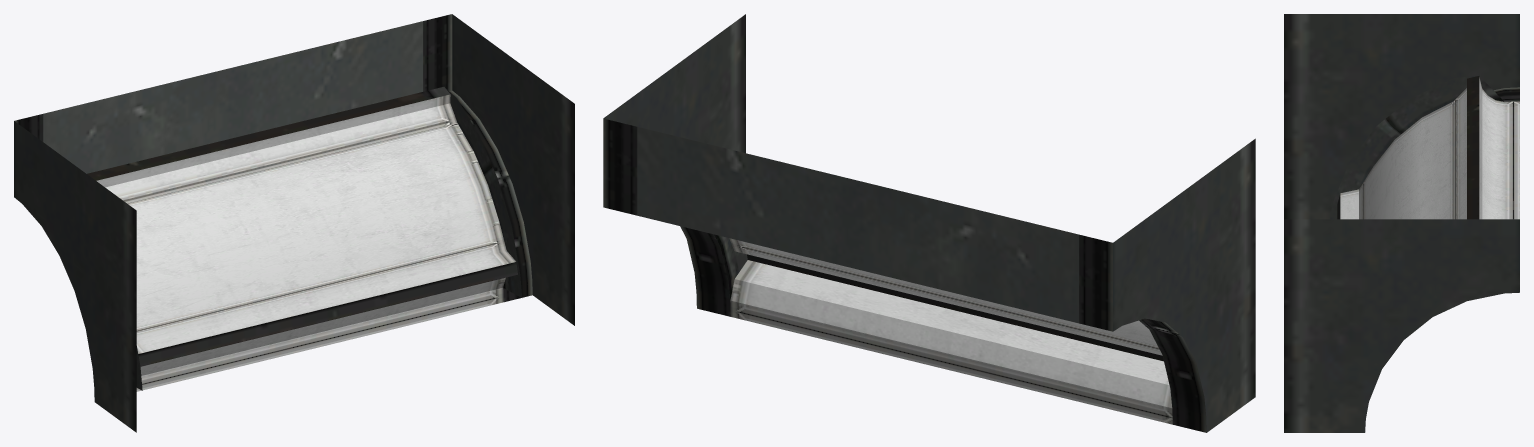
File: Neon_Wall_3x4_Top.FBX
3 views of the same model, side by side, from view 1: azimuth 30°, elevation 25°; view 2: azimuth 150°, elevation 25°; view 3: azimuth 270°, elevation 25° (orthographic). The views are drawn at different scales.
Parts seen in each view (by area): view 1: Neon_Wall_3x4_Top; view 2: Neon_Wall_3x4_Top; view 3: Neon_Wall_3x4_Top.
Part boxes in pixels (left/top/right/bottom): Neon_Wall_3x4_Top: left=14, top=14, right=574, bottom=432; Neon_Wall_3x4_Top: left=603, top=14, right=1255, bottom=432; Neon_Wall_3x4_Top: left=1284, top=14, right=1519, bottom=432.
Size of the model in its own units: 3 by 1.46 by 1.45.
